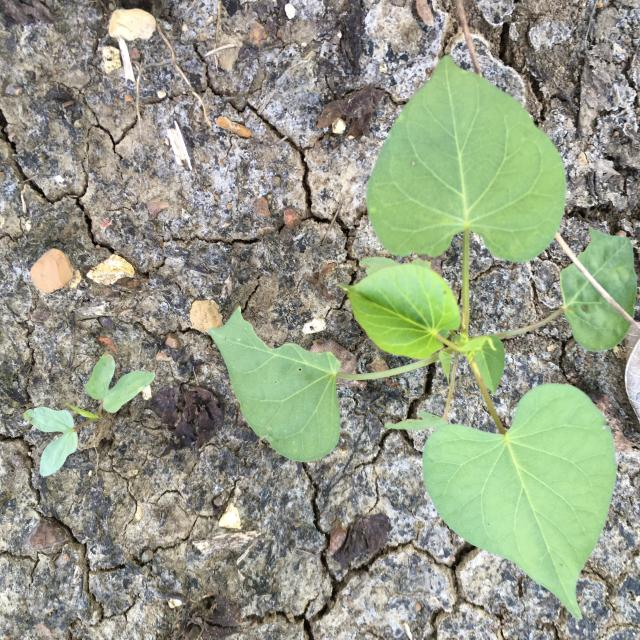MorningGlory: (205, 54, 638, 619), (22, 352, 156, 477)
